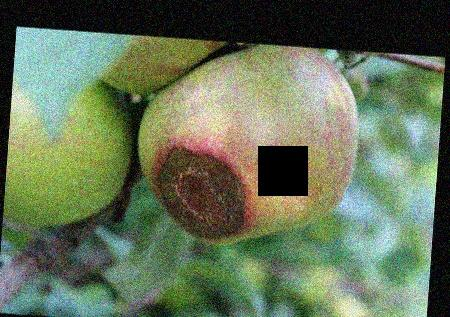rotten apple: (129, 43, 356, 252)
